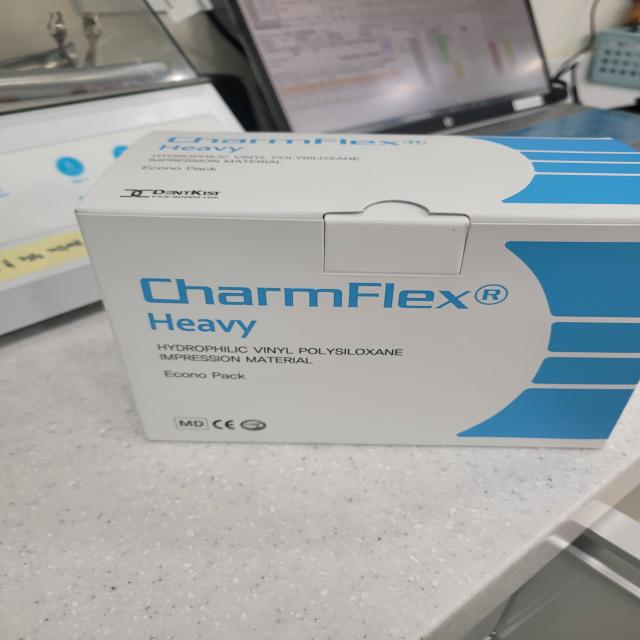impression: (73, 122, 640, 470)
